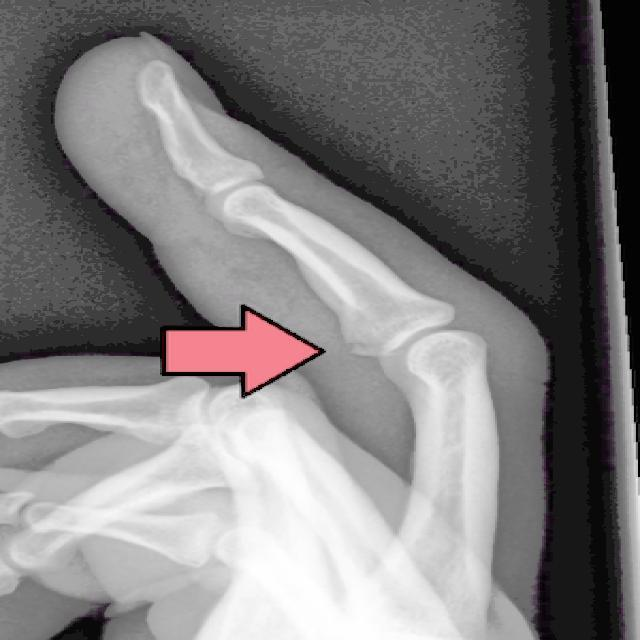Avlusion Fracture: (314, 318, 384, 372)
